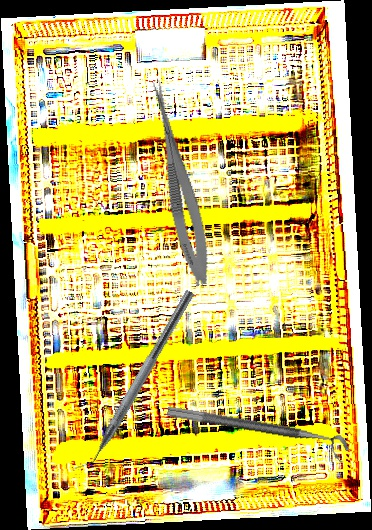Chopper: (69, 282, 196, 481)
Fixation Ring: (164, 405, 351, 464)
Micro Scissor: (138, 77, 219, 289)
